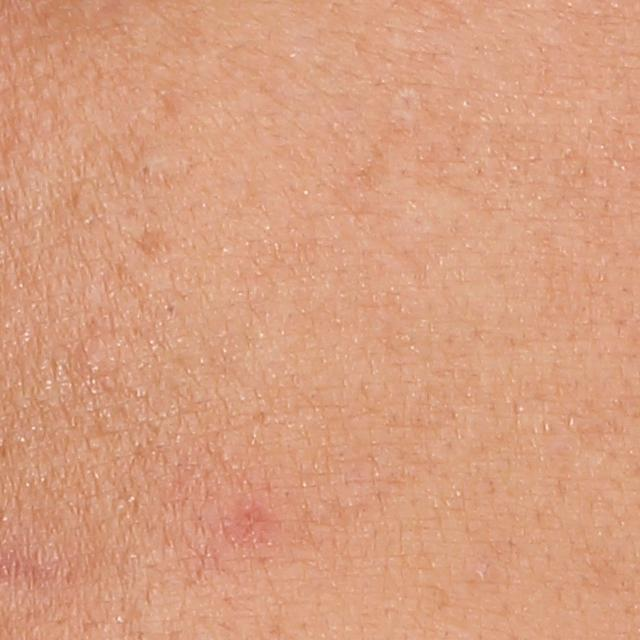comedo: (132, 156, 162, 183)
